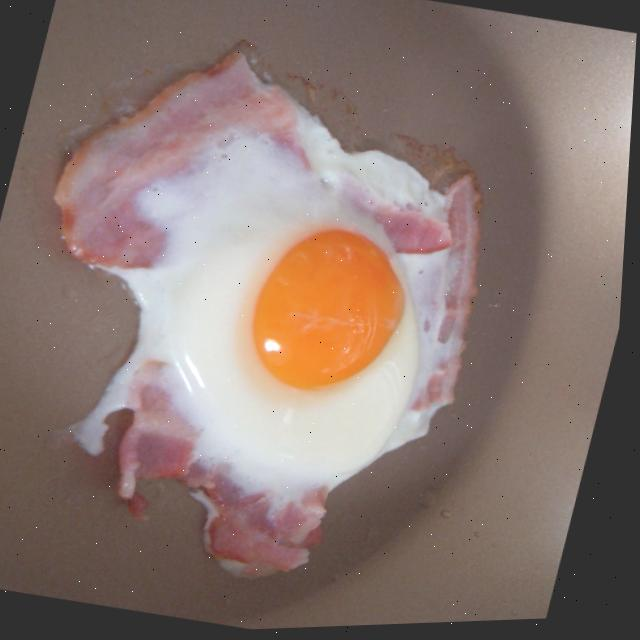鸡蛋料理: (41, 78, 517, 564)
